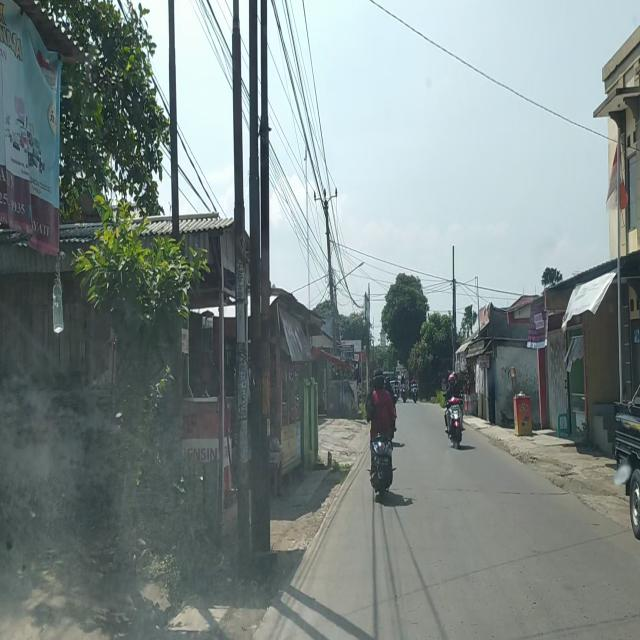Sewer Cover: (436, 485, 571, 496)
